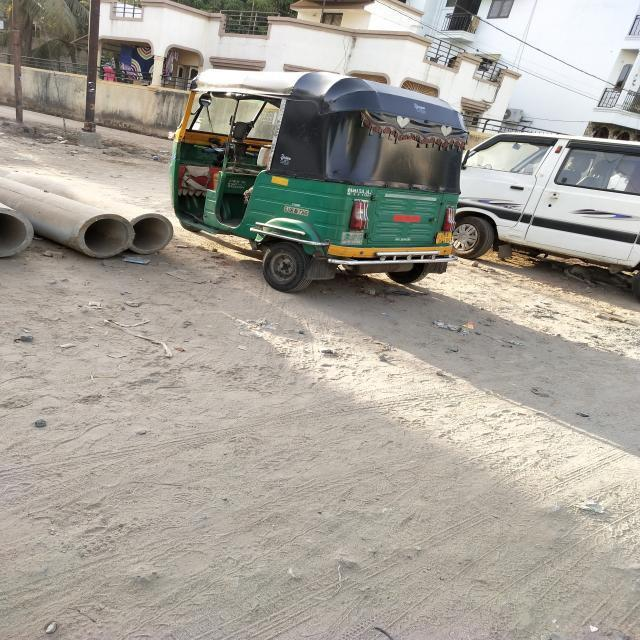auto_back: (164, 60, 470, 309)
